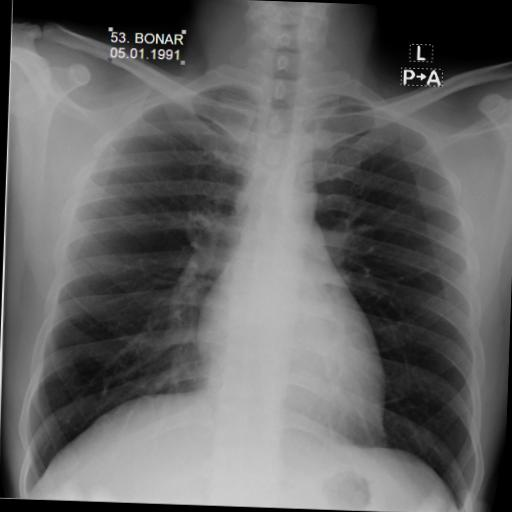normal: (13, 52, 492, 510)
